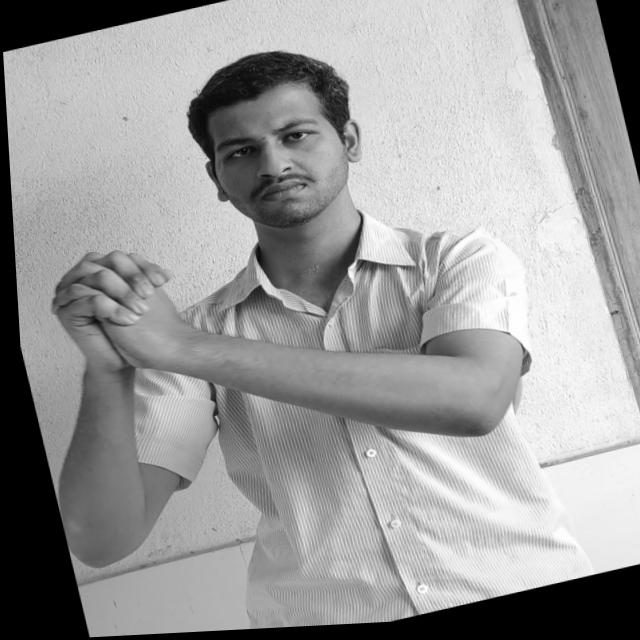Sorry: (33, 232, 187, 386)
